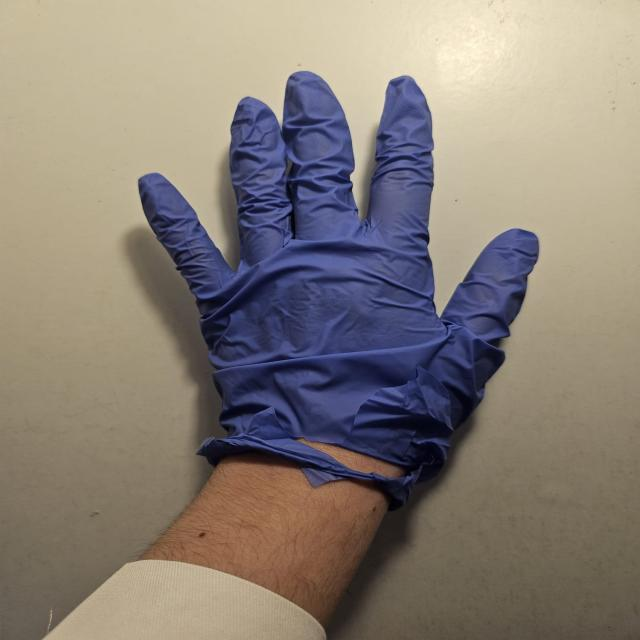gloves_damaged: (136, 71, 538, 506)
